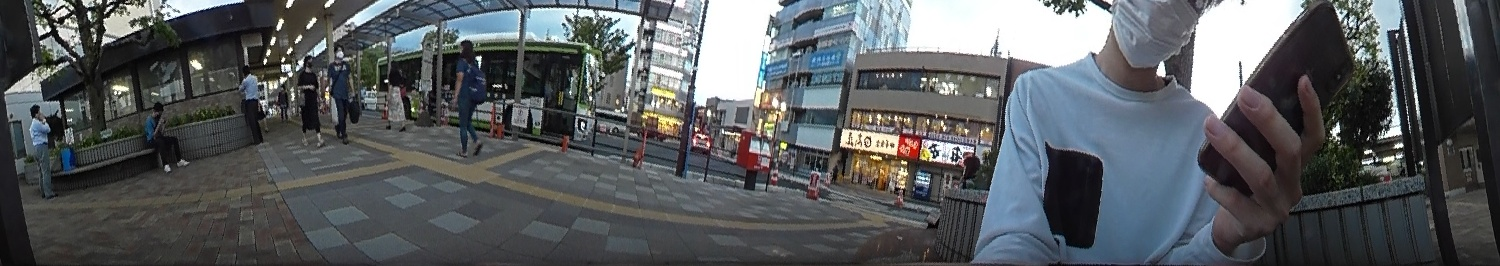difficult_person: (276, 84, 291, 122)
person: (446, 35, 488, 161), (22, 104, 60, 196), (325, 40, 356, 146), (141, 102, 186, 172), (297, 55, 324, 148), (236, 64, 265, 144), (384, 58, 409, 135)
